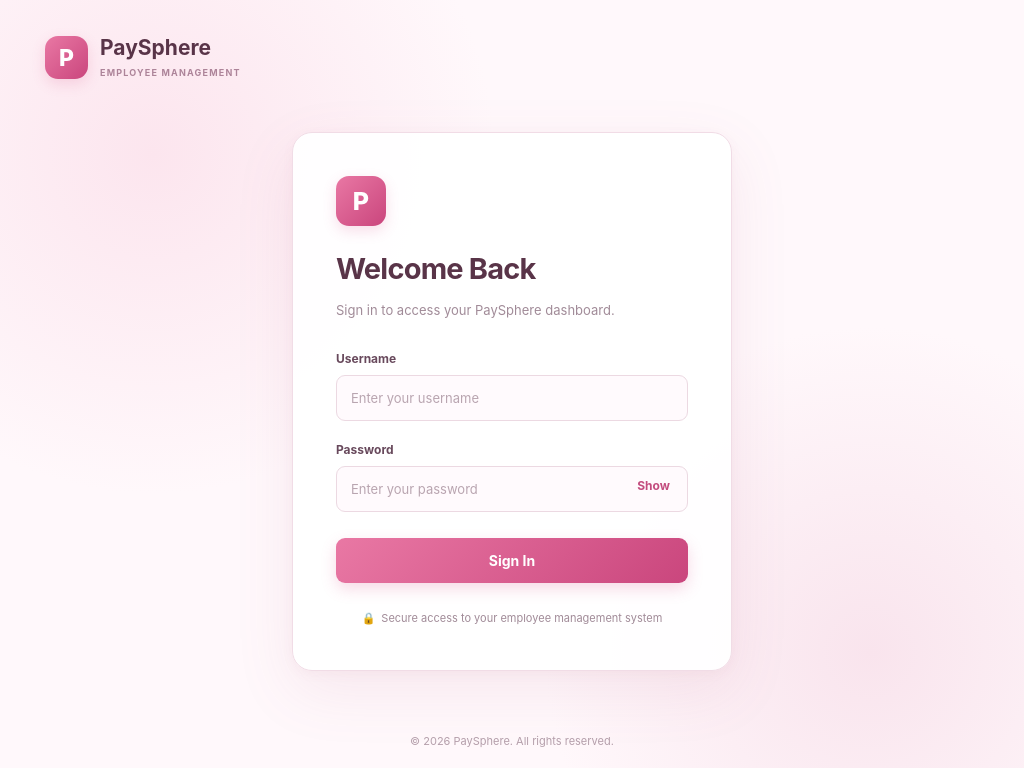
Test: Login component › displays the server error for invalid credentials
Type "admin" into the field labelled "Username".
click(512, 398); type("admin")  # box x1=336 y1=375 x2=688 y2=421
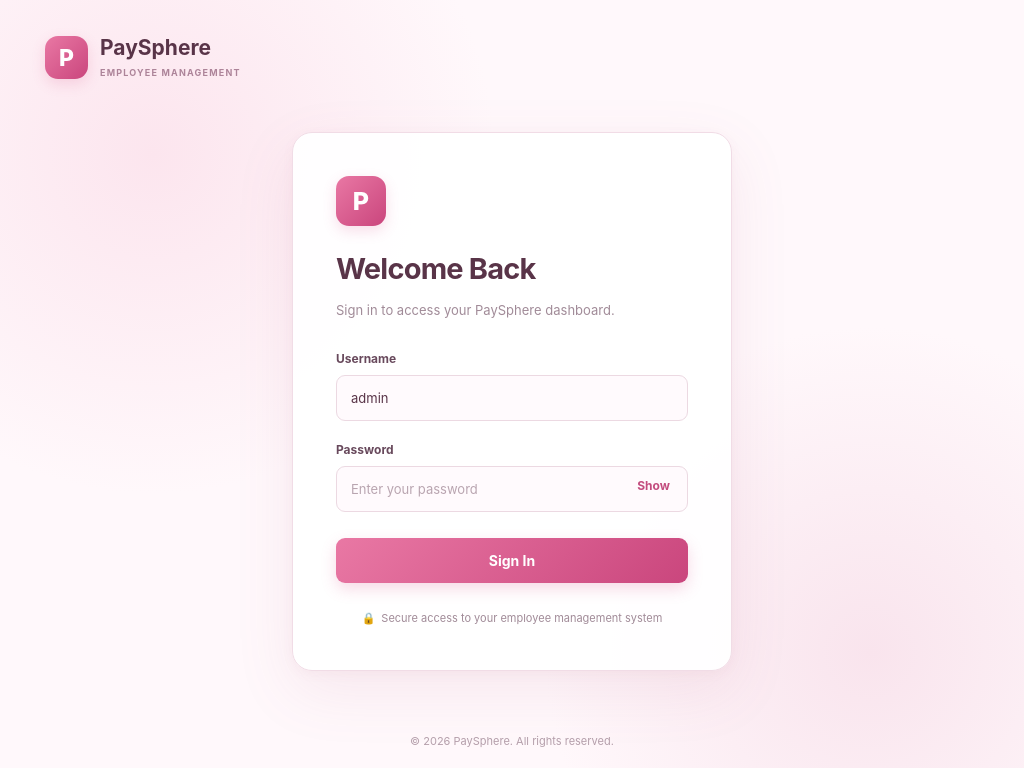
Type "wrong-password" into the password field labelled "Password".
click(512, 489); type("wrong-password")  # box x1=336 y1=466 x2=688 y2=512
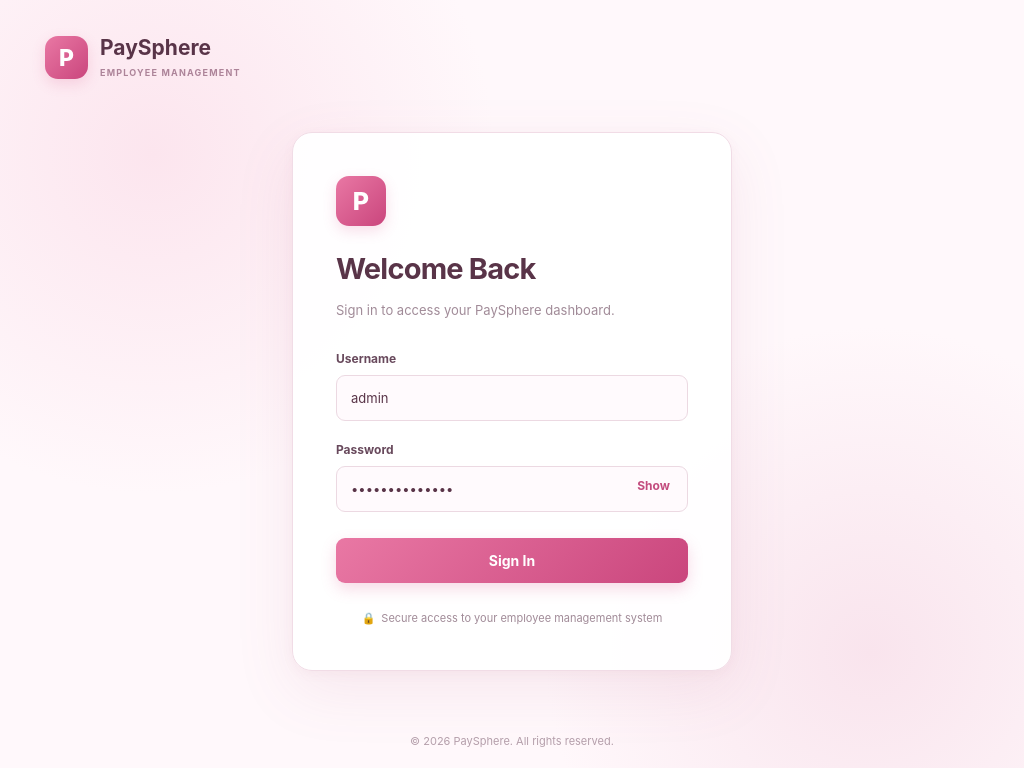
Click the button "Sign In".
click(512, 560)  # box x1=336 y1=538 x2=688 y2=583
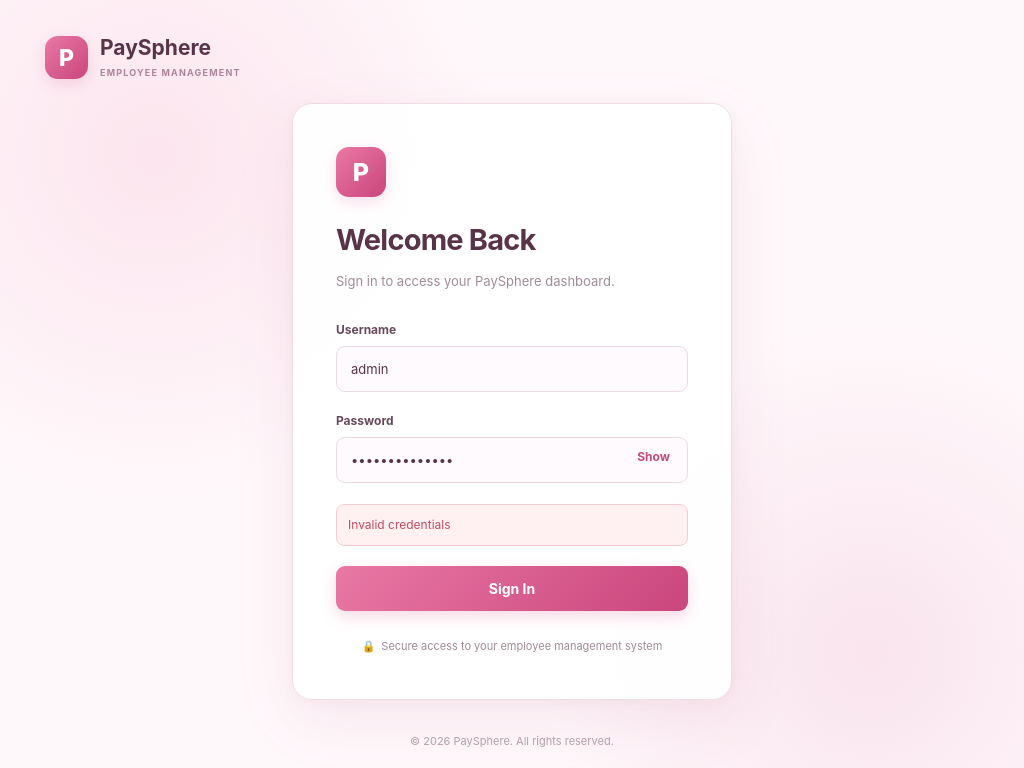
Expected: the message reads "Invalid credentials", x1=348 y1=517 x2=450 y2=532
